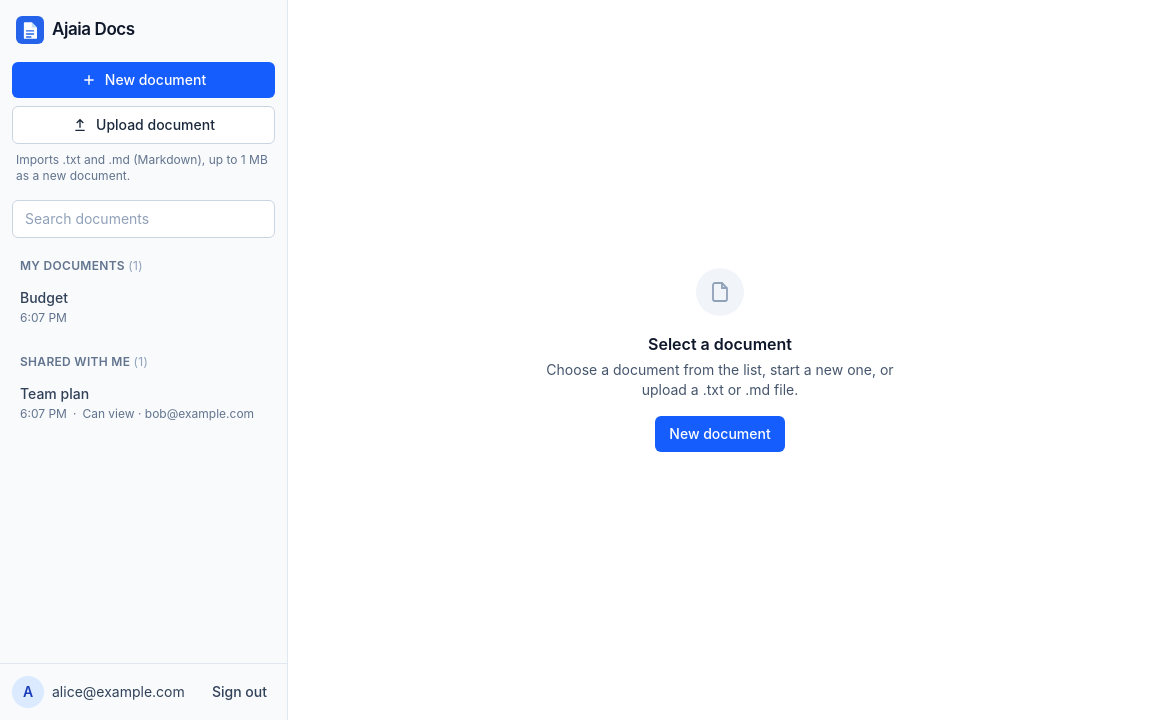
Test: Workspace › shows owned and shared documents in separate sections and filters them
Expected: the text "Budget" is shown, [20, 289, 68, 306]
Expected: the text "Team plan" is shown, [20, 385, 89, 402]
Type "budg" into the search field labelled "Search documents" at coordinates (144, 219), box [12, 200, 275, 238]
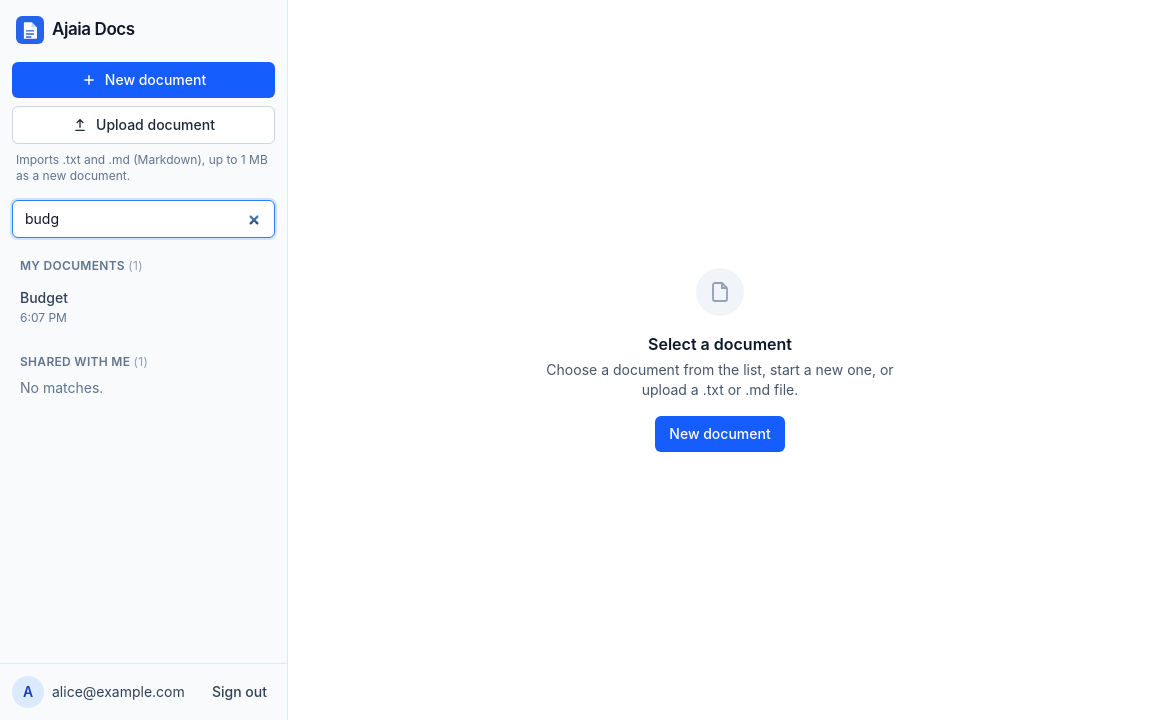
Expected: the text "Budget" is shown, [20, 289, 68, 306]
Result: the text "No matches." is shown at [20, 379, 103, 396]
